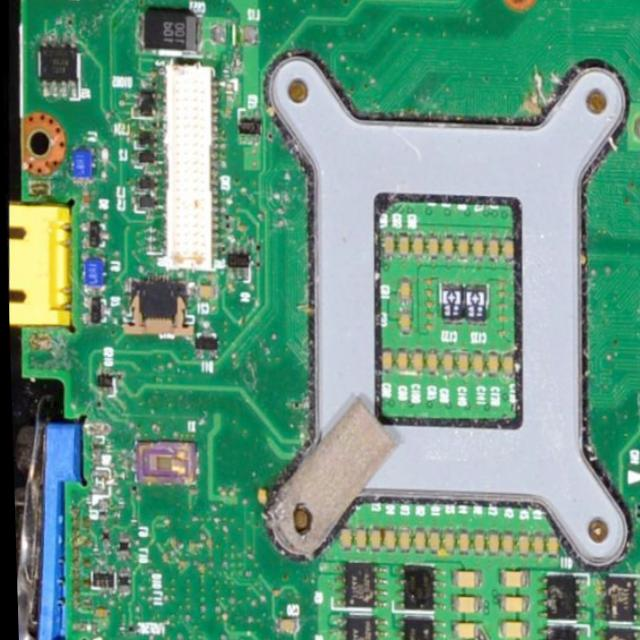IC: (36, 32, 81, 98), (130, 86, 157, 120)
capacitor: (491, 621, 525, 640), (496, 593, 528, 613), (480, 234, 500, 266), (448, 349, 468, 378), (449, 595, 479, 614), (494, 571, 526, 588), (496, 236, 515, 262), (422, 233, 439, 262), (448, 620, 475, 638), (450, 571, 478, 588), (435, 351, 452, 377), (482, 351, 498, 378), (467, 531, 484, 556), (538, 534, 557, 556), (494, 354, 510, 379), (509, 534, 527, 556), (191, 282, 215, 298), (482, 531, 497, 556), (270, 618, 293, 634), (524, 535, 541, 556), (468, 237, 481, 264), (454, 233, 466, 262), (396, 234, 409, 260), (410, 352, 424, 376), (423, 530, 438, 552), (454, 528, 467, 553), (437, 237, 453, 257), (379, 350, 392, 374), (394, 351, 408, 372), (381, 234, 393, 258), (409, 527, 422, 549), (422, 350, 435, 372), (336, 530, 349, 551), (395, 526, 406, 550), (379, 529, 392, 549), (497, 536, 511, 554), (410, 236, 422, 257), (439, 532, 451, 552), (470, 354, 480, 378), (368, 527, 379, 548), (354, 530, 362, 546)
transistor: (385, 562, 445, 615), (325, 560, 386, 610), (533, 571, 585, 618), (591, 578, 640, 623), (325, 614, 383, 640), (384, 616, 442, 640), (226, 242, 250, 284), (238, 106, 260, 144), (536, 624, 583, 640), (591, 626, 640, 640), (95, 374, 116, 395)
